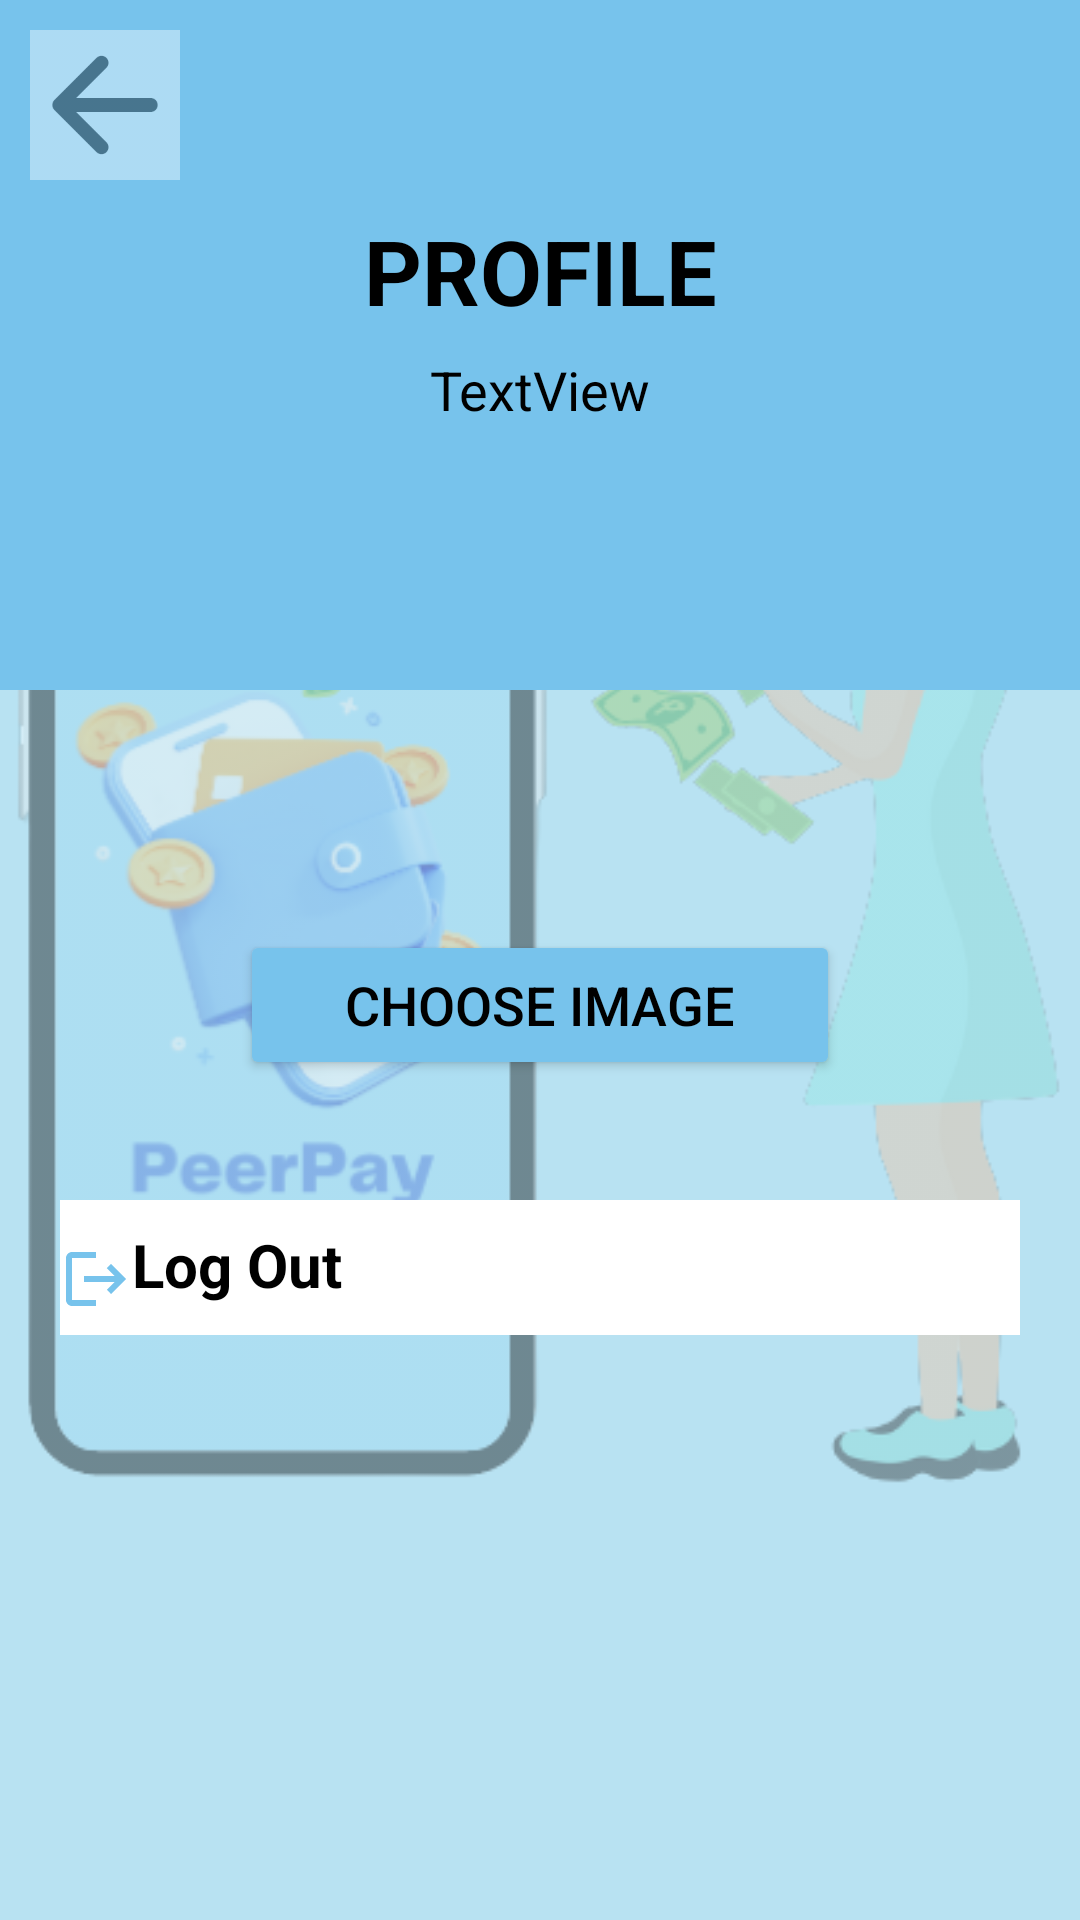

Icons on this 1080 × 1920 Android screen, each with its box as box(x1, y1, x2, y2):
Back Button: box(30, 30, 180, 180)
